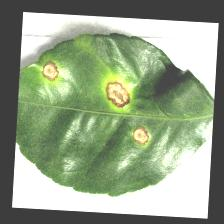canker: (31, 46, 166, 162)
